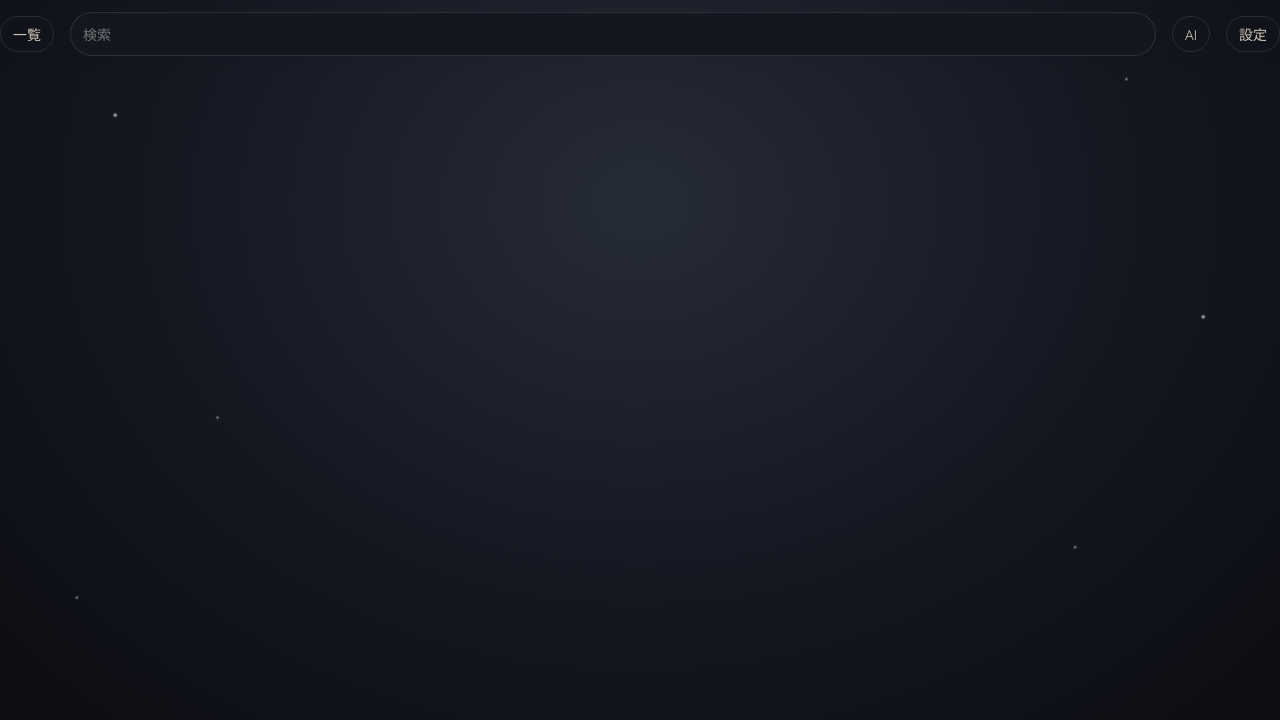
Test: AppHeader › パスキーだけで登録済みなら、Googleで続けるが出る
What coordinates should you click on to do the following:
click the button "設定"
I would click on:
 (1253, 34)
Its box is [1226,16,1279,52].
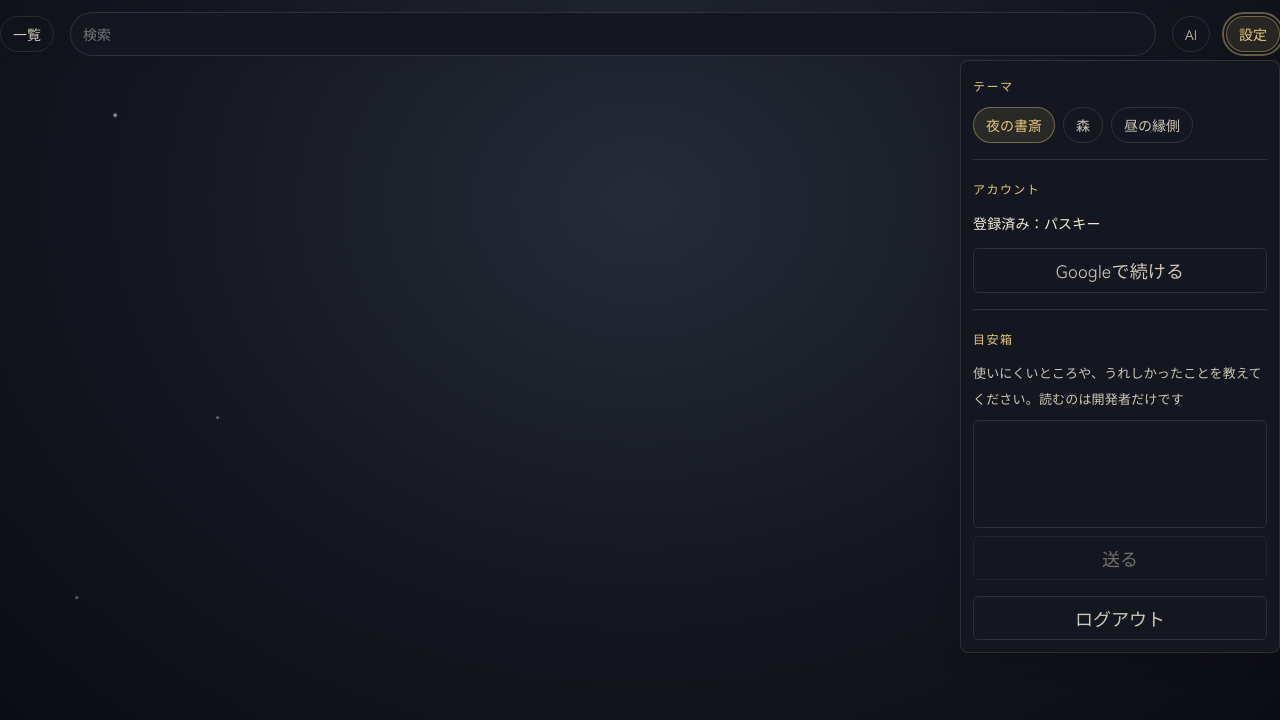
Result: the link "Googleで続ける" is shown at [973,248,1267,293]
